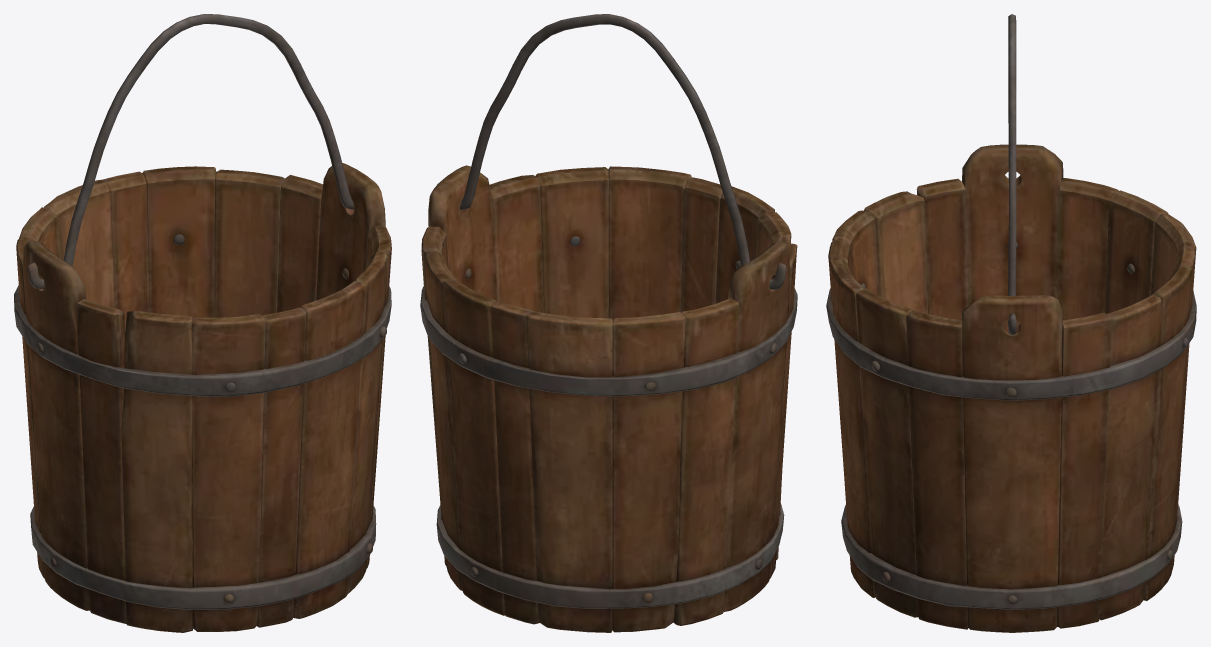
File: wooden_bucket_01.glb
3 renders of one model, left to right at view 1: azimuth 30°, elevation 25°; view 2: azimuth 150°, elevation 25°; view 3: azimuth 270°, elevation 25°, orthographic.
Visible parts, largest first — view 1: wooden_bucket_01; view 2: wooden_bucket_01; view 3: wooden_bucket_01.
Boxes of the visible parts, x1,y1,x2,y2 form: wooden_bucket_01: (14, 14, 391, 632); wooden_bucket_01: (420, 14, 797, 632); wooden_bucket_01: (826, 14, 1196, 632).
Bounding box in the file's own units: 0.367 × 0.5499 × 0.3422.
Materials: 1 (1 with a texture image).
